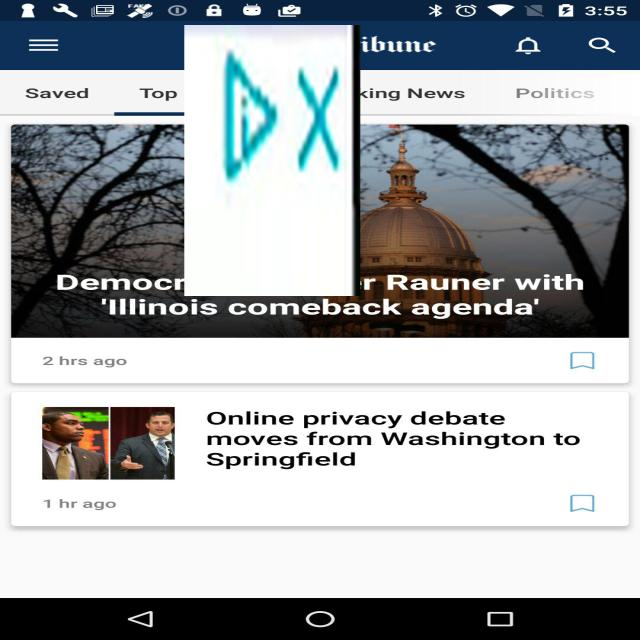sneaking: (184, 25, 360, 296)
